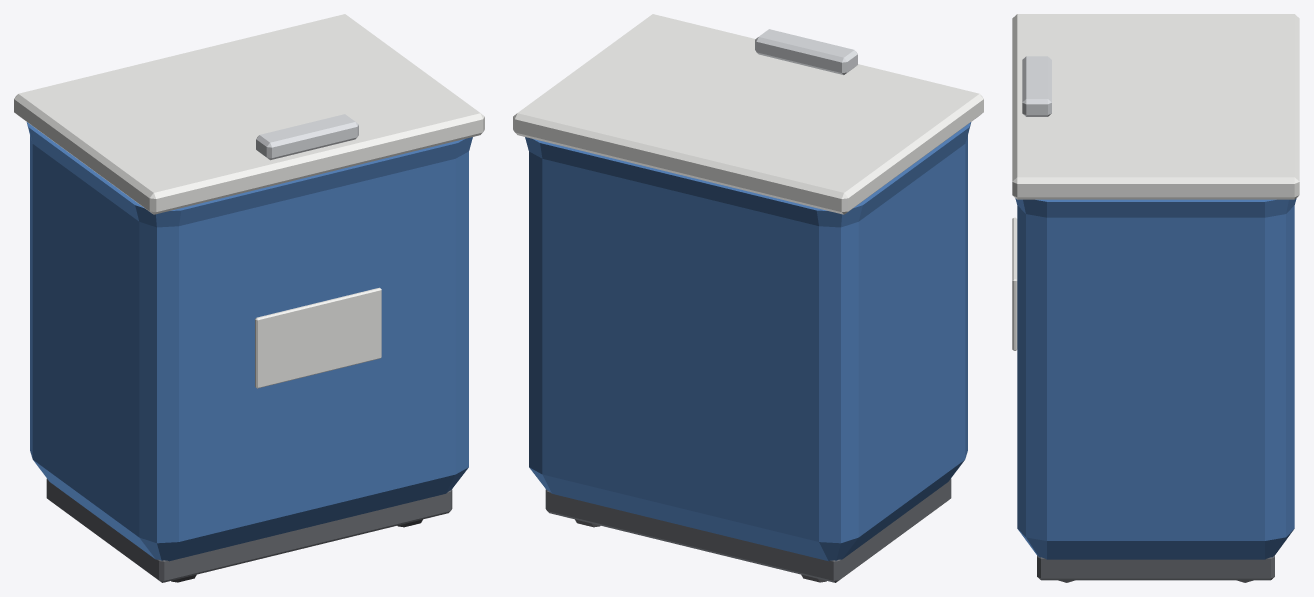
File: ice-hockey-arena-and-locker-room-laundry-bin-b65d565a__33737.glb
3 views of the same model, side by side, from view 1: azimuth 30°, elevation 25°; view 2: azimuth 150°, elevation 25°; view 3: azimuth 270°, elevation 25° (orthographic). The views are drawn at different scales.
Visible parts, largest first — view 1: laundry-bin, bin-lid/white, bin-lid/metal; view 2: laundry-bin, bin-lid/white, bin-lid/metal; view 3: laundry-bin, bin-lid/white, bin-lid/metal.
Part boxes in pixels (x1=…): laundry-bin: x1=26, y1=122, x2=472, y2=582; bin-lid/white: x1=14, y1=14, x2=484, y2=214; bin-lid/metal: x1=256, y1=114, x2=358, y2=160; laundry-bin: x1=525, y1=122, x2=971, y2=582; bin-lid/white: x1=513, y1=14, x2=983, y2=214; bin-lid/metal: x1=755, y1=29, x2=857, y2=74; laundry-bin: x1=1012, y1=198, x2=1296, y2=582; bin-lid/white: x1=1012, y1=14, x2=1299, y2=199; bin-lid/metal: x1=1022, y1=56, x2=1051, y2=116.
Size of the model in its own units: 0.8 by 0.99 by 0.58.
